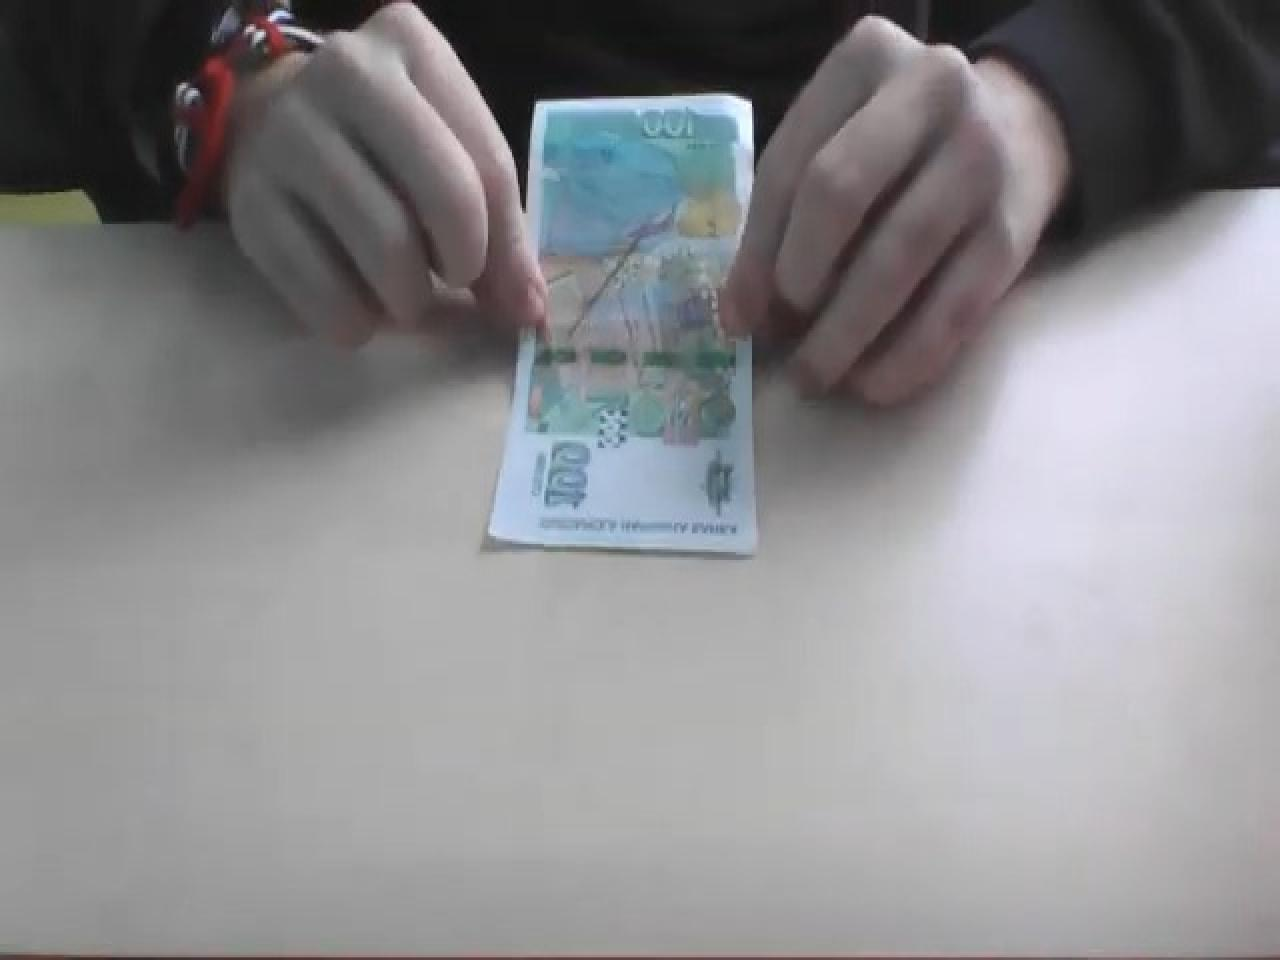100leva: (484, 94, 760, 563)
